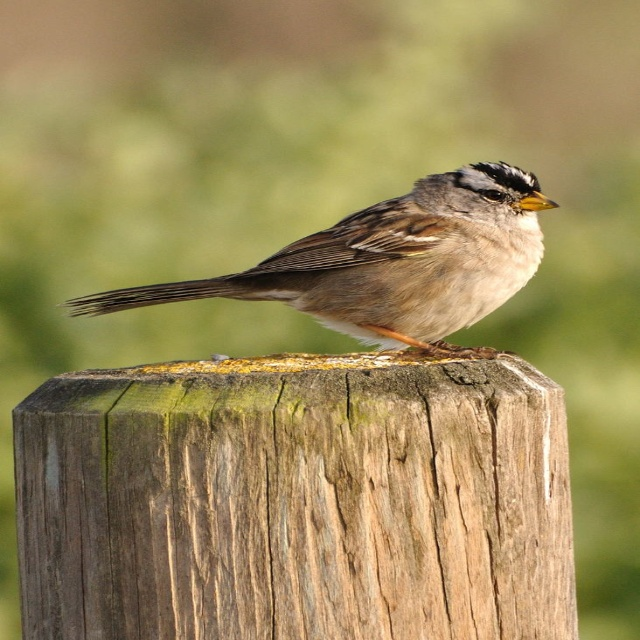Sparrow: (66, 162, 563, 367)
